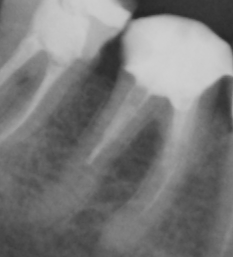fracture: (137, 168, 177, 218)
